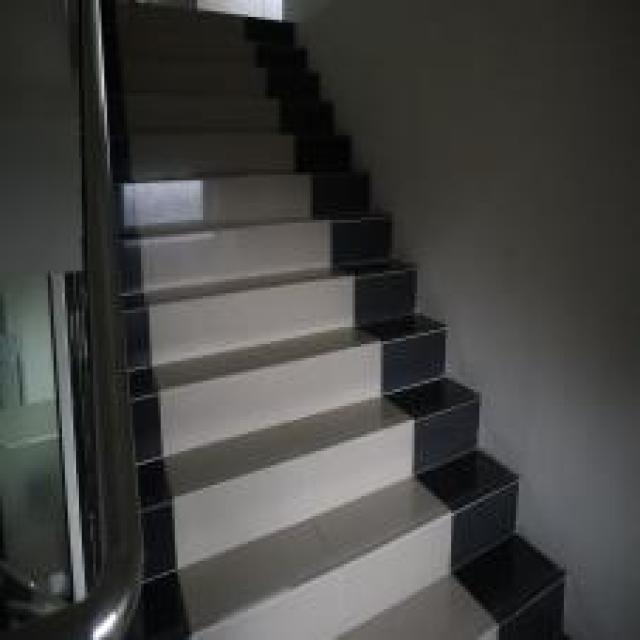upstair: (98, 254, 561, 640)
